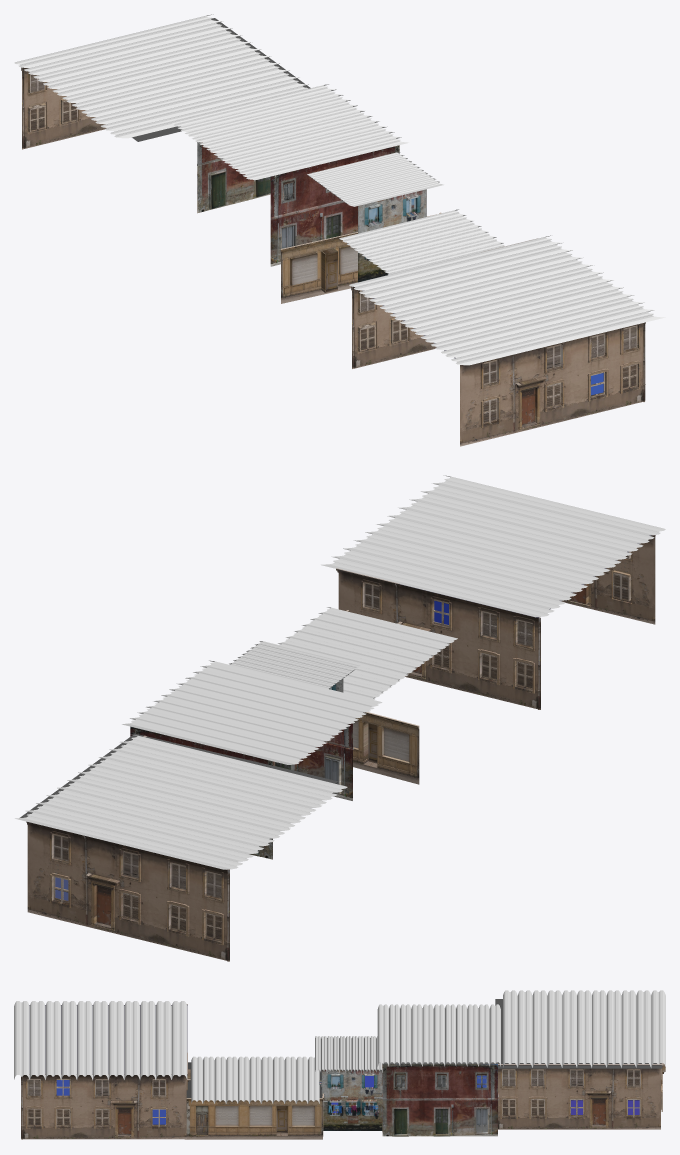
The model's file is Barrio011.fbx.
3 views of the same model, one above another, from view 1: azimuth 30°, elevation 25°; view 2: azimuth 150°, elevation 25°; view 3: azimuth 270°, elevation 25° (orthographic). The views are drawn at different scales.
Parts seen in each view (by area): view 1: Plane.005, Plane.009, 224108786_498606067899207_3879247058815885501_n.004, Plane.008, TexturesCom_BuildingsHouseOld0017_1_M.001, Plane.006, Plane.007, 222098902_991616681675324_6185489060309530850_n.001, 224108786_498606067899207_3879247058815885501_n.001, 224108786_498606067899207_3879247058815885501_n.003, TexturesCom_BuildingsHouseOld0017_1_M.002, 222098902_532163114690804_6680190317355216501_n.002 (+1 smaller); view 2: Plane.005, Plane.009, 224108786_498606067899207_3879247058815885501_n.003, Plane.008, 224108786_498606067899207_3879247058815885501_n.001, Plane.006, 224108786_498606067899207_3879247058815885501_n.004, 222098902_991616681675324_6185489060309530850_n.001, Plane.007, TexturesCom_BuildingsHouseOld0017_1_M.001, TexturesCom_BuildingsHouseOld0017_1_M.002, Plane.001; view 3: Plane.005, Plane.009, 224108786_498606067899207_3879247058815885501_n.005, 224108786_498606067899207_3879247058815885501_n.002, TexturesCom_BuildingsHouseOld0017_1_M, Plane.008, Plane.006, 222098902_991616681675324_6185489060309530850_n, 222098902_532163114690804_6680190317355216501_n.001, Plane.007, Plane.001, Plane.
Part boxes in pixels (x1,y1,x2,y2): Plane.005: (349, 235, 665, 365); Plane.009: (14, 14, 309, 138); 224108786_498606067899207_3879247058815885501_n.004: (460, 322, 645, 446); Plane.008: (170, 84, 408, 179); TexturesCom_BuildingsHouseOld0017_1_M.001: (270, 145, 399, 266); Plane.006: (339, 209, 504, 274); Plane.007: (307, 152, 443, 206); 222098902_991616681675324_6185489060309530850_n.001: (280, 214, 436, 303); 224108786_498606067899207_3879247058815885501_n.001: (351, 238, 536, 368); 224108786_498606067899207_3879247058815885501_n.003: (21, 67, 106, 149); TexturesCom_BuildingsHouseOld0017_1_M.002: (197, 142, 270, 213); 222098902_532163114690804_6680190317355216501_n.002: (358, 189, 426, 282); Plane.005: (321, 475, 665, 617); Plane.009: (15, 734, 347, 869); 224108786_498606067899207_3879247058815885501_n.003: (26, 821, 229, 961); Plane.008: (122, 660, 382, 764); 224108786_498606067899207_3879247058815885501_n.001: (337, 568, 540, 709); Plane.006: (277, 607, 457, 699); 224108786_498606067899207_3879247058815885501_n.004: (562, 535, 655, 624); 222098902_991616681675324_6185489060309530850_n.001: (353, 712, 419, 784); Plane.007: (229, 641, 360, 688); TexturesCom_BuildingsHouseOld0017_1_M.001: (273, 723, 353, 800); TexturesCom_BuildingsHouseOld0017_1_M.002: (130, 726, 272, 859); Plane.001: (20, 733, 337, 817); Plane.005: (14, 1001, 187, 1080); Plane.009: (503, 990, 665, 1067); 224108786_498606067899207_3879247058815885501_n.005: (21, 1074, 187, 1139); 224108786_498606067899207_3879247058815885501_n.002: (498, 1064, 662, 1129); TexturesCom_BuildingsHouseOld0017_1_M: (382, 1064, 497, 1136); Plane.008: (377, 1004, 500, 1066); Plane.006: (191, 1056, 319, 1103); 222098902_991616681675324_6185489060309530850_n: (185, 1098, 322, 1139); 222098902_532163114690804_6680190317355216501_n.001: (321, 1069, 382, 1130); Plane.007: (315, 1036, 382, 1072); Plane.001: (495, 999, 661, 1068); Plane: (29, 1005, 187, 1073).
Size of the model in its own units: 26.22 by 10.85 by 82.69.
Materials: 20 (4 with a texture image).
